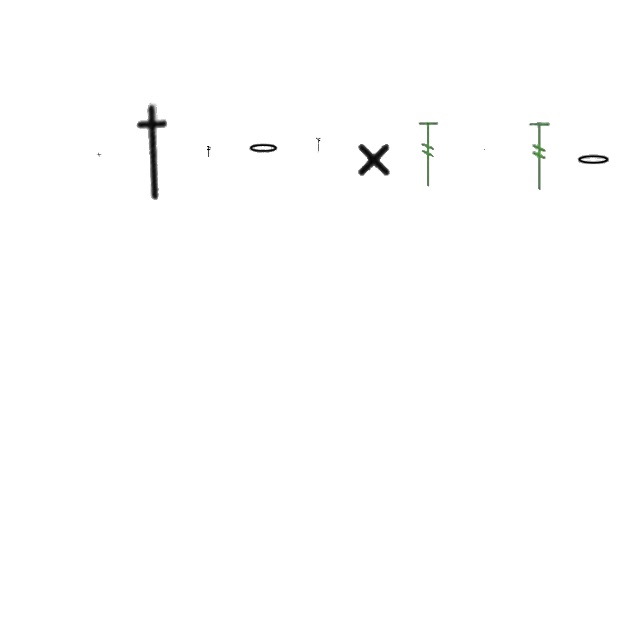chain: (576, 153, 612, 167), (248, 142, 280, 156), (482, 150, 486, 150)
double: (355, 138, 393, 180), (96, 152, 102, 158)
double treble: (316, 137, 322, 153), (207, 146, 211, 158)
enseble_chain: (125, 102, 183, 202)
fan: (416, 120, 442, 190), (527, 122, 551, 192)
